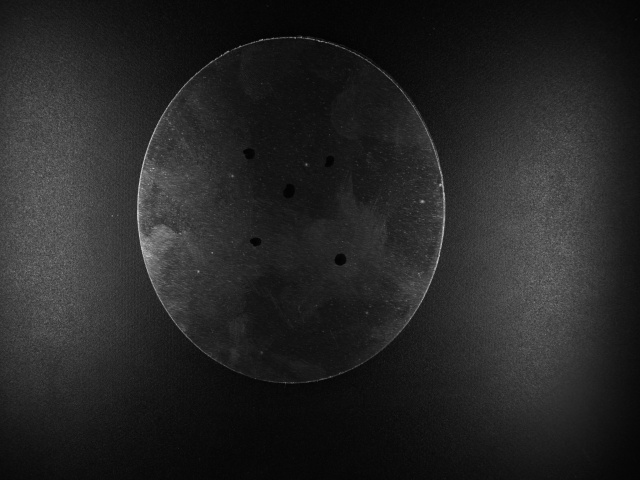zhen_kong: (277, 183, 304, 201), (241, 145, 262, 162), (322, 152, 339, 171), (246, 233, 266, 249), (331, 251, 349, 268)
